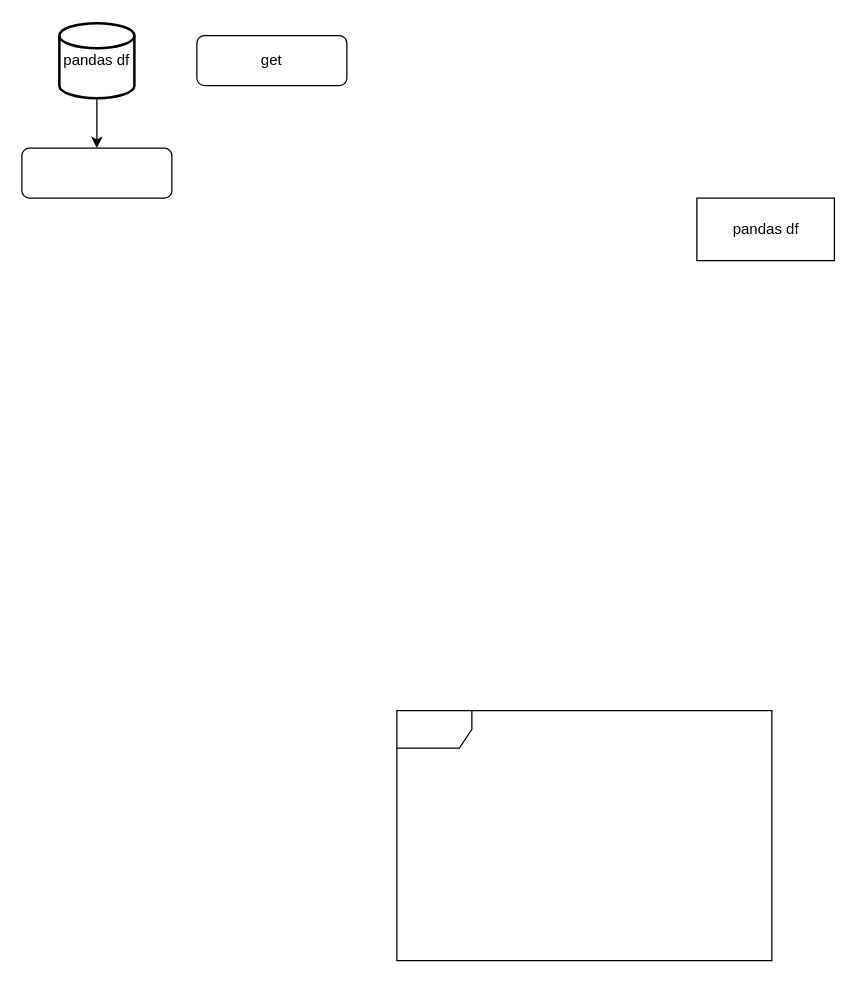
This 856x983 diagram has some shape labels left out. Here are the shapes that lost their labels. From the top down, the box of each, then its label:
(21, 147, 172, 198): getMetadata
(396, 709, 772, 961): frame
